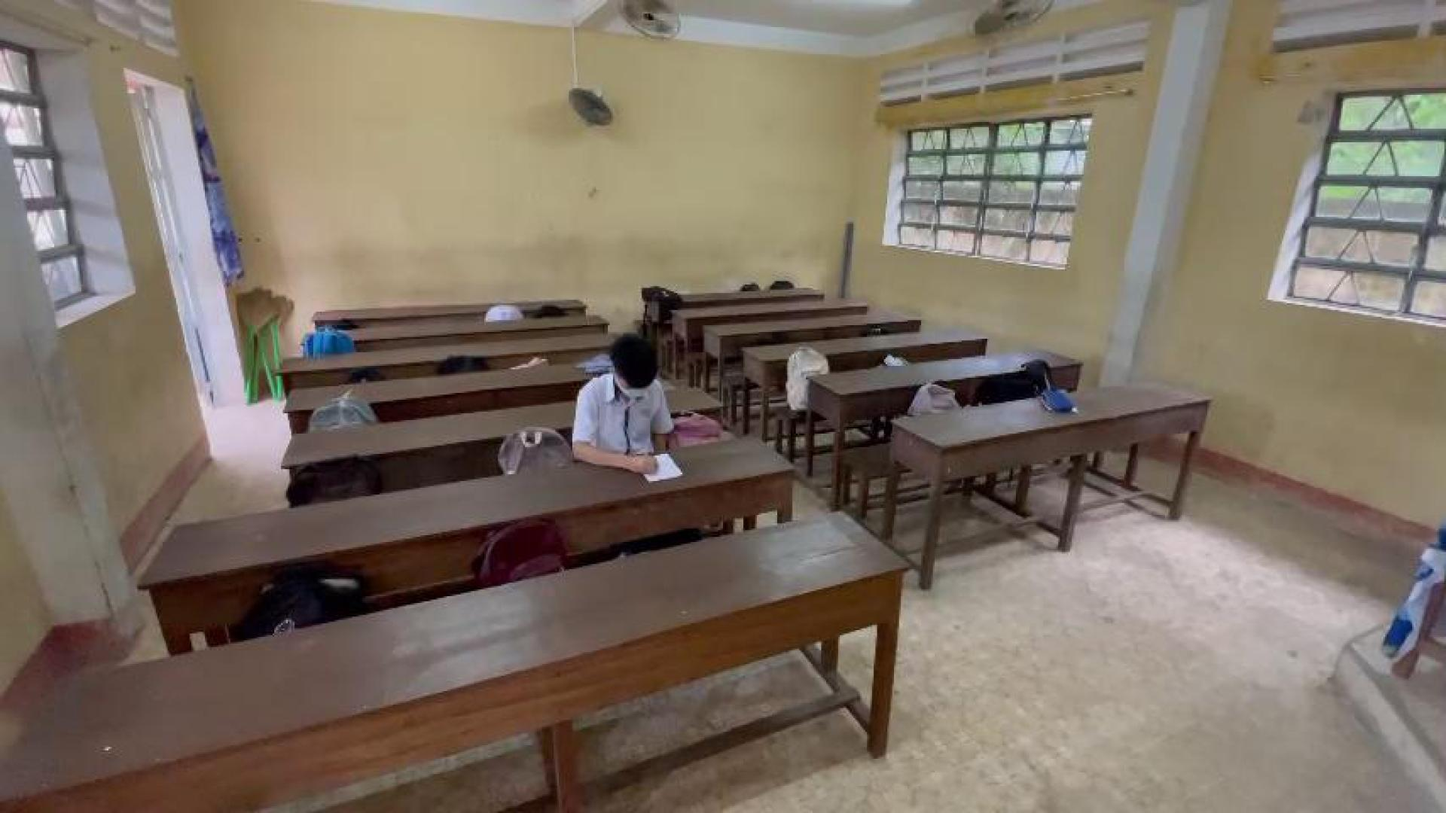Hand Under Table: (645, 381, 676, 457)
